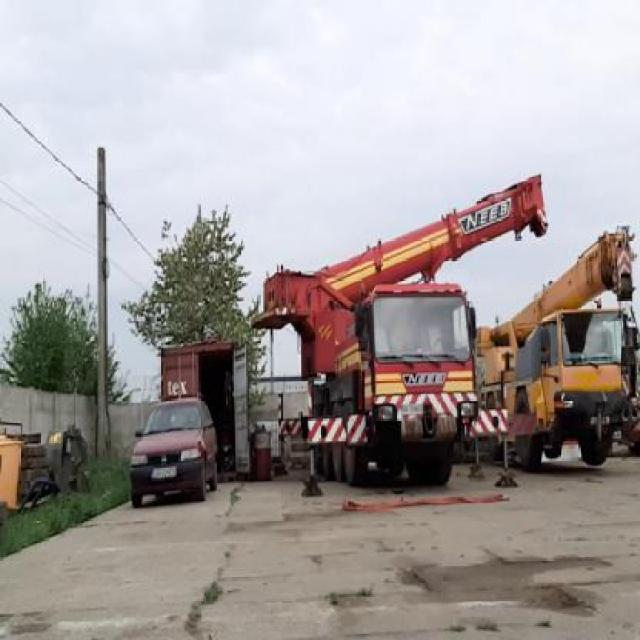Mobile Crane: (256, 174, 546, 495), (481, 230, 636, 475)
